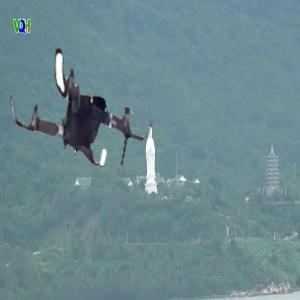drone: (8, 27, 163, 182)
